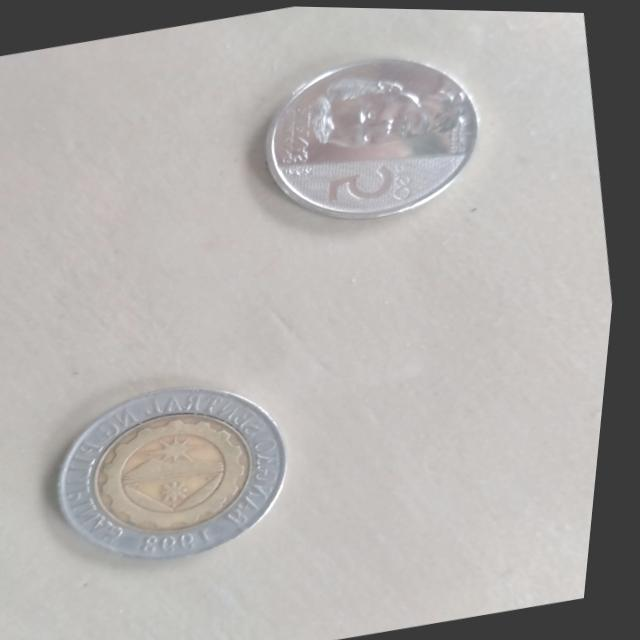10_Old_Back: (46, 363, 320, 579)
5_New_Front: (302, 135, 435, 224)
